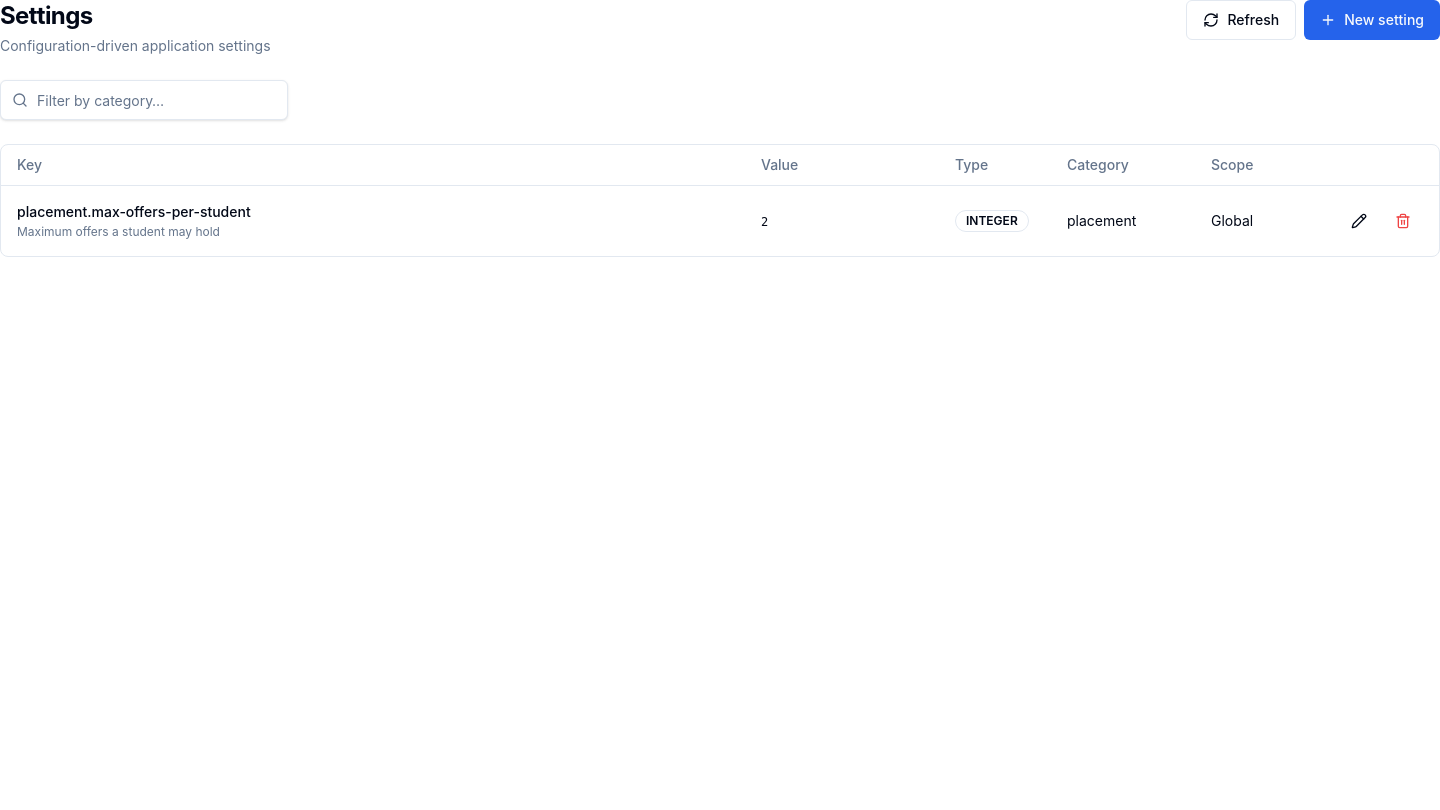
Test case: SettingsPage › edits a setting through a typed form, keying on the immutable key
The width and height of the screenshot is (1440, 810).
Expected: the text "placement.max-offers-per-student" is shown, [17,202,251,220]
Click the button named "edit placement.max-offers-per-student" at (1359,220), box [1339,202,1379,238]
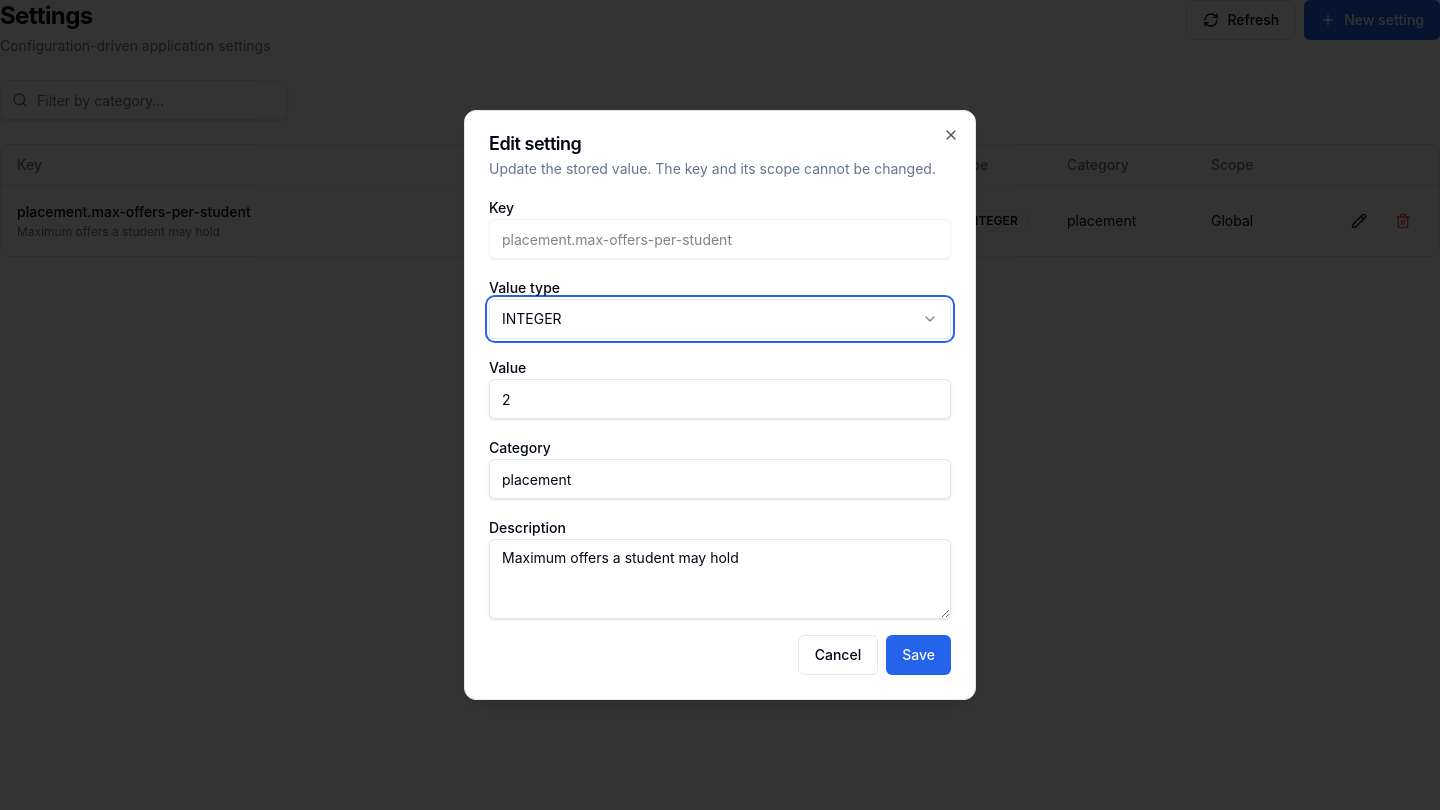
Now the field labelled "Key" is disabled, box [489,219,951,259]
Click the button "Save" at (919,655), box [886,635,951,675]
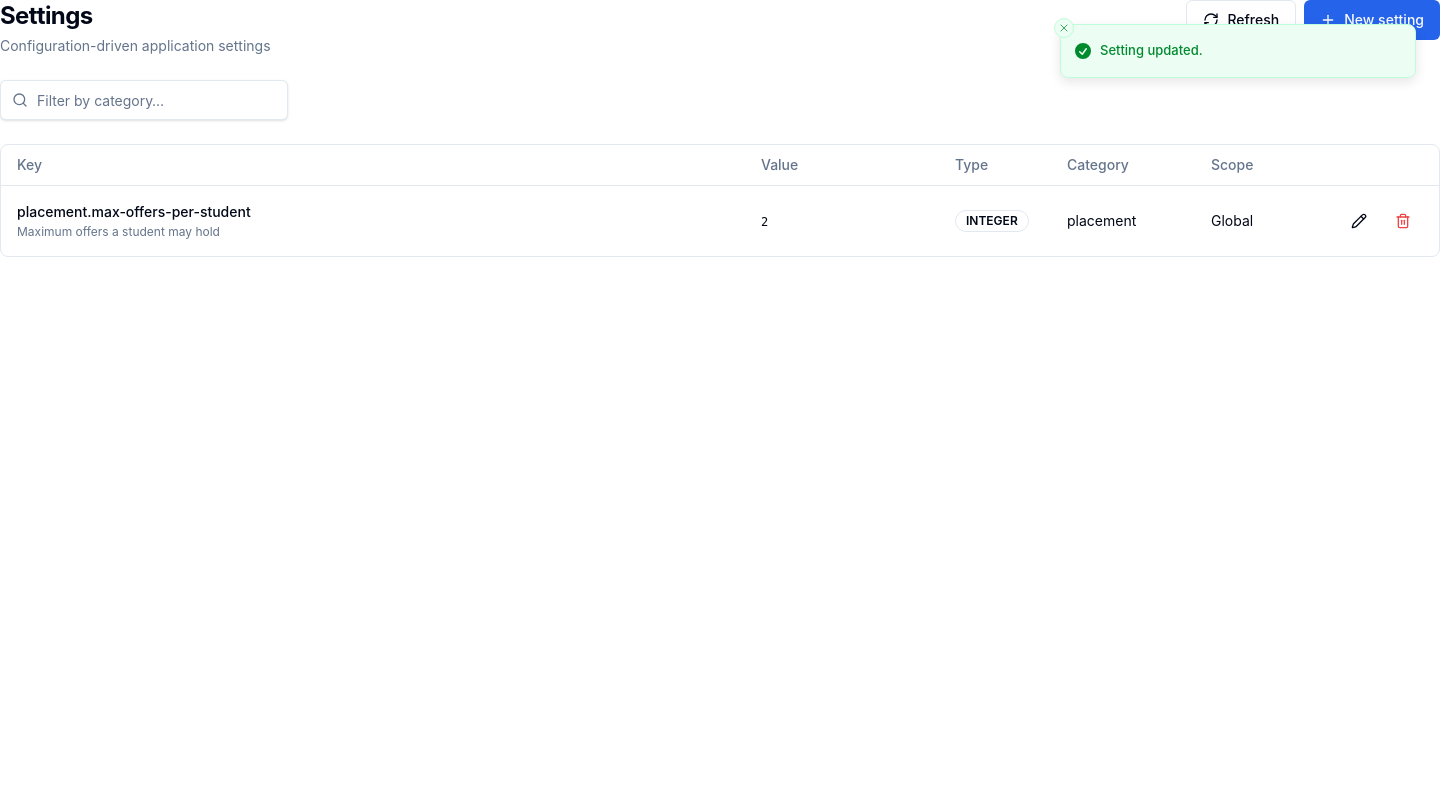
Now the text "Setting updated." is shown, box [1100,41,1203,60]
